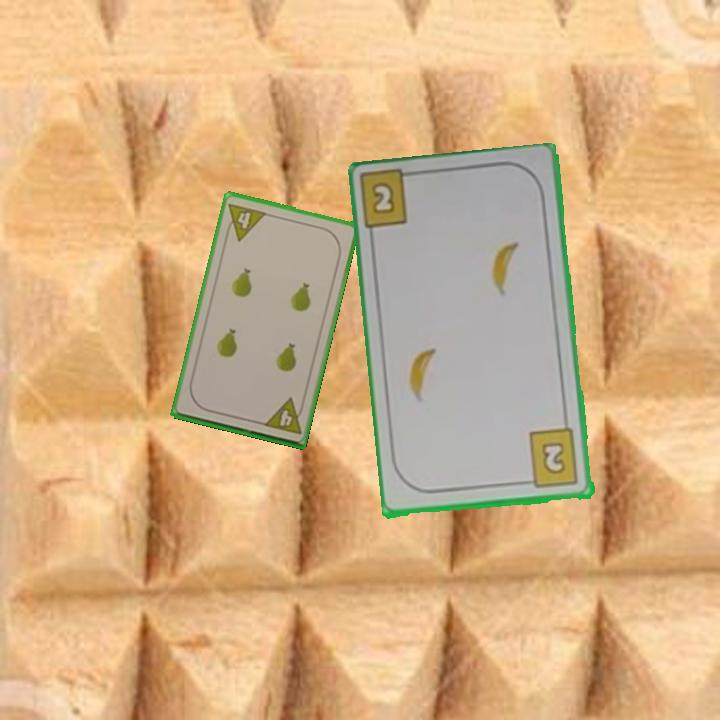2b: (520, 426, 582, 491), (368, 179, 398, 218)
4p: (221, 199, 269, 244), (260, 395, 307, 437)
